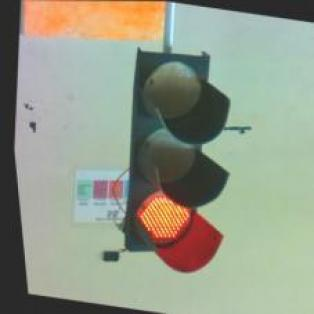Semoforo Rojo: (102, 42, 249, 276)
